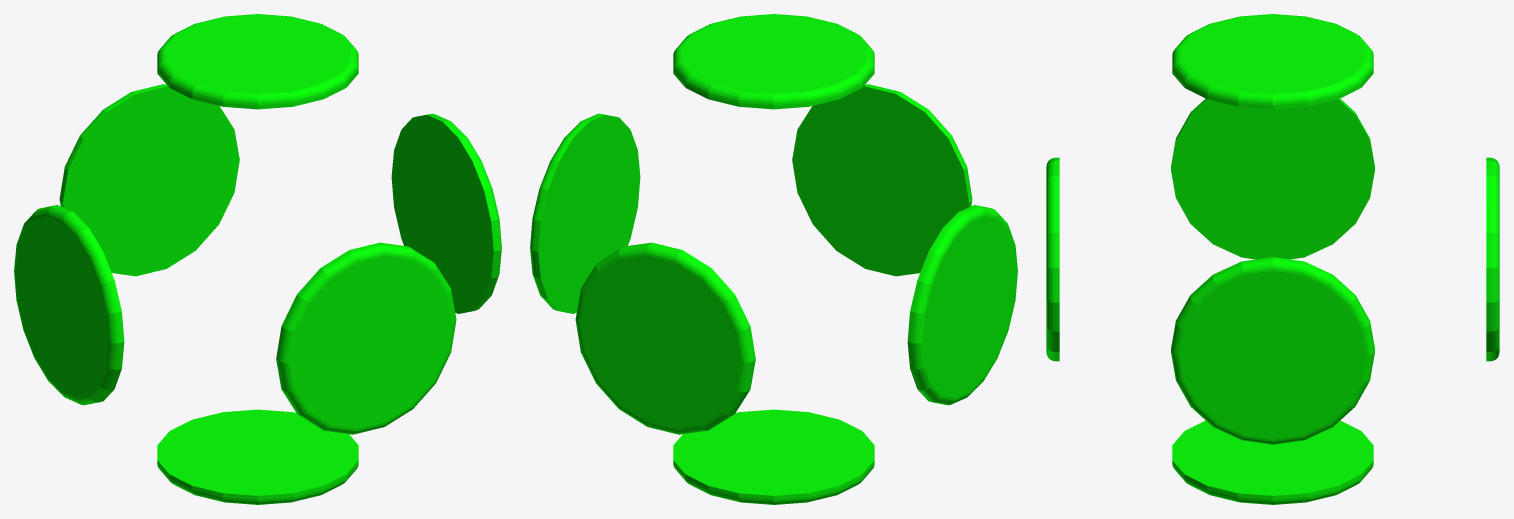
The model's file is SealCircle.obj.
The picture shows the model from 3 angles, left to right: view 1: azimuth 30°, elevation 25°; view 2: azimuth 150°, elevation 25°; view 3: azimuth 270°, elevation 25°; orthographic projection.
Parts seen in each view (by area): view 1: SealCircle; view 2: SealCircle; view 3: SealCircle.
Part boxes in pixels (x1,y1,x2,y2): SealCircle: (14,14,501,504); SealCircle: (530,14,1017,504); SealCircle: (1046,14,1499,504).
Size of the model in its own units: 102 by 102 by 102.
